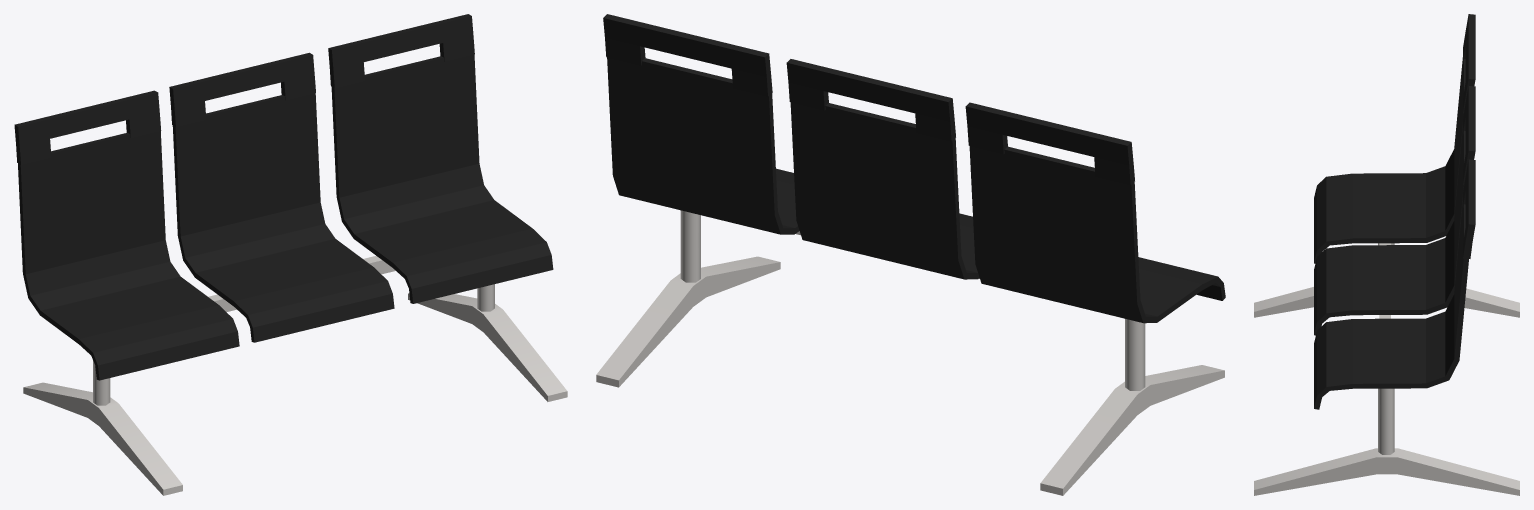
File: SM_seats_entrance.fbx
3 views of the same model, side by side, from view 1: azimuth 30°, elevation 25°; view 2: azimuth 150°, elevation 25°; view 3: azimuth 270°, elevation 25° (orthographic). The views are drawn at different scales.
Parts seen in each view (by area): view 1: Box258; view 2: Box258; view 3: Box258.
Boxes of the visible parts, bbox=[...] form: Box258: bbox=[14, 14, 567, 495]; Box258: bbox=[596, 14, 1225, 495]; Box258: bbox=[1254, 14, 1519, 495].
Size of the model in its own units: 77.7 by 48.19 by 41.51.
